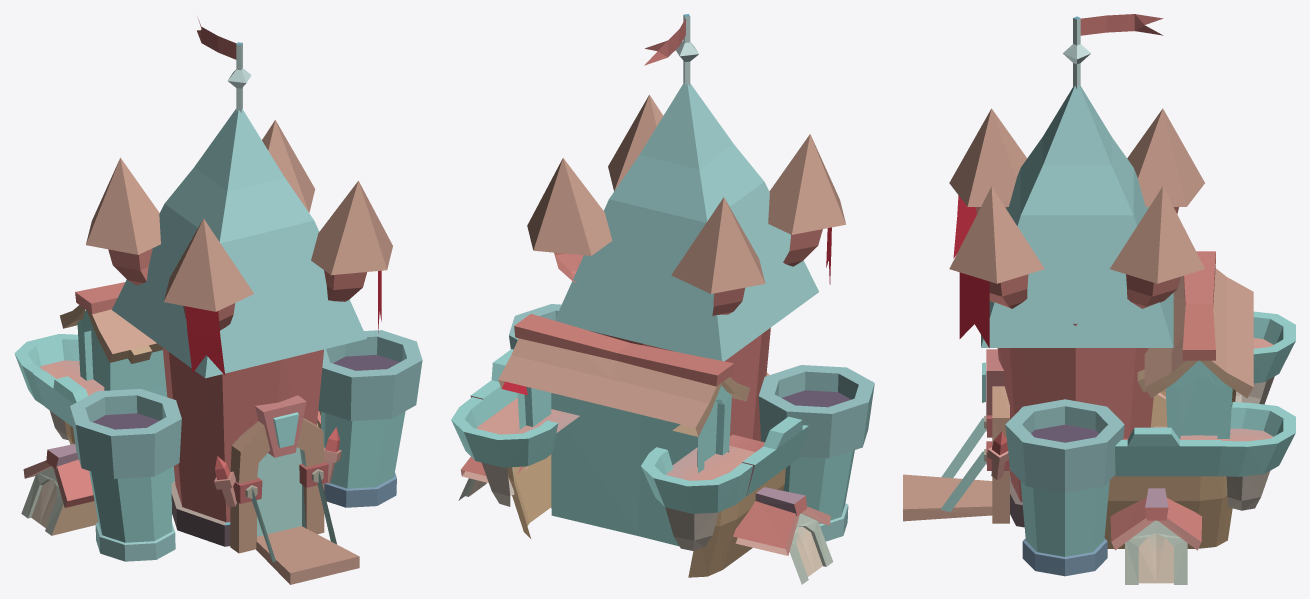
Rendered from castle01.fbx.
3 views of the same model, side by side, from view 1: azimuth 30°, elevation 25°; view 2: azimuth 150°, elevation 25°; view 3: azimuth 270°, elevation 25° (orthographic). The views are drawn at different scales.
Visible parts, largest first — view 1: castle01; view 2: castle01; view 3: castle01.
Boxes of the visible parts, x1,y1,x2,y2 form: castle01: (14, 17, 422, 584); castle01: (451, 14, 874, 584); castle01: (903, 14, 1295, 584).
Size of the model in its own units: 0.4065 by 0.5368 by 0.3936.
